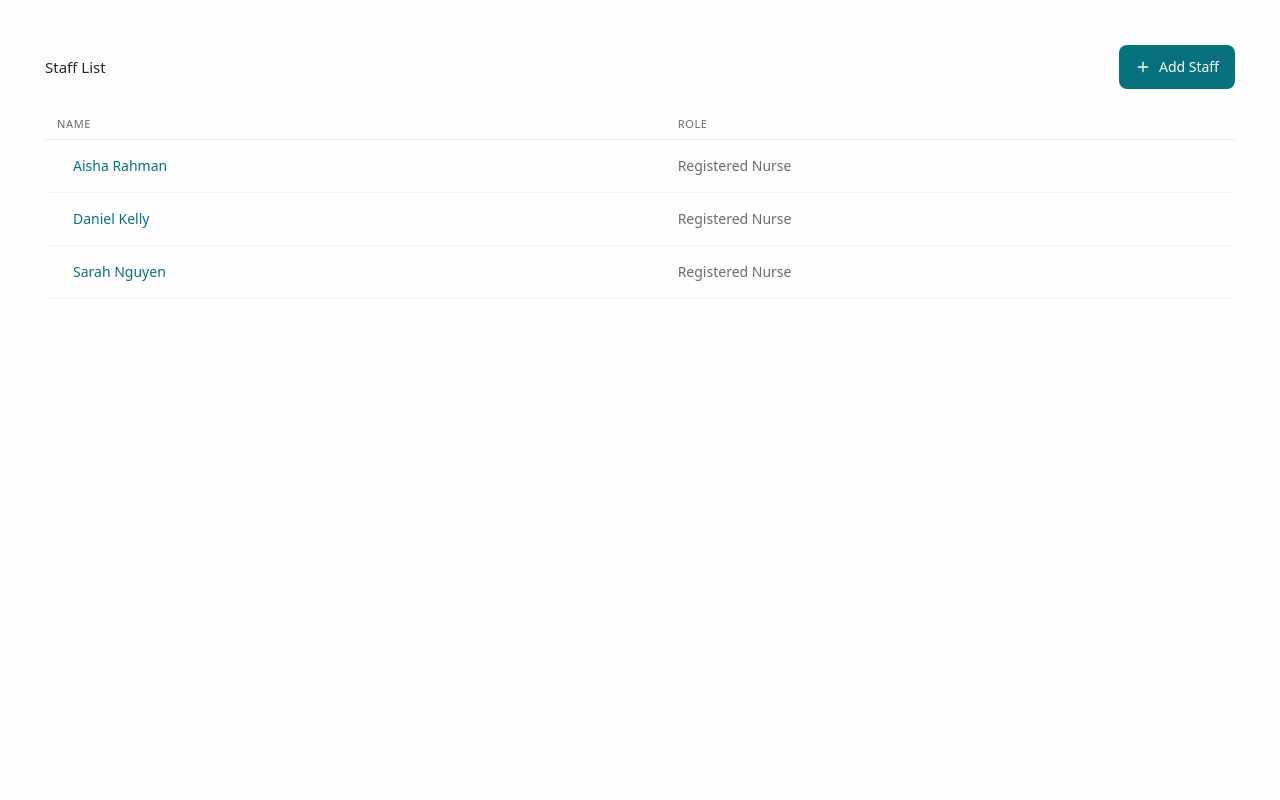
Test: [ADM-08][AC-04] the carer's Clients list › [ADM-08][AC-04] has no Clients list while adding a new staff member
Click the button with aria-label "Edit Aisha Rahman": (120, 166) [57,144,183,188]
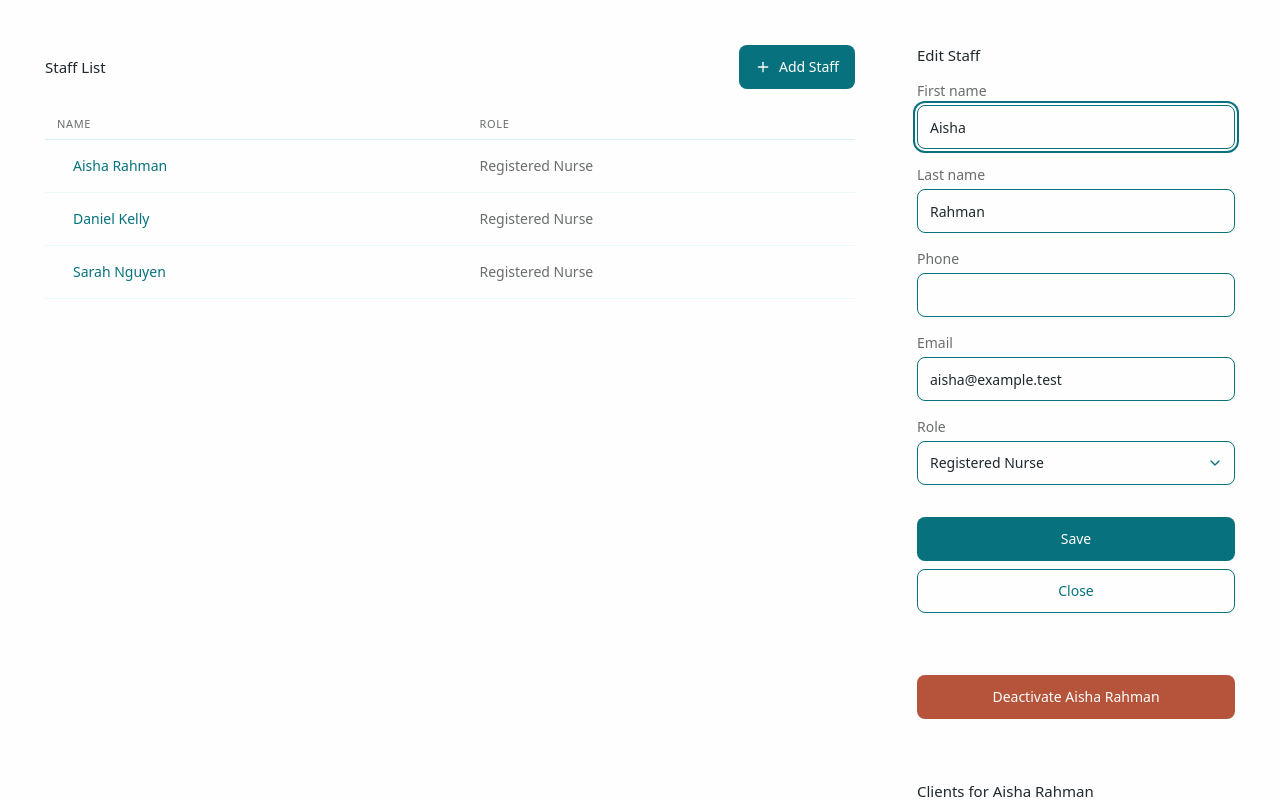
Click the button "Add Staff": (797, 67) [739,45,855,89]
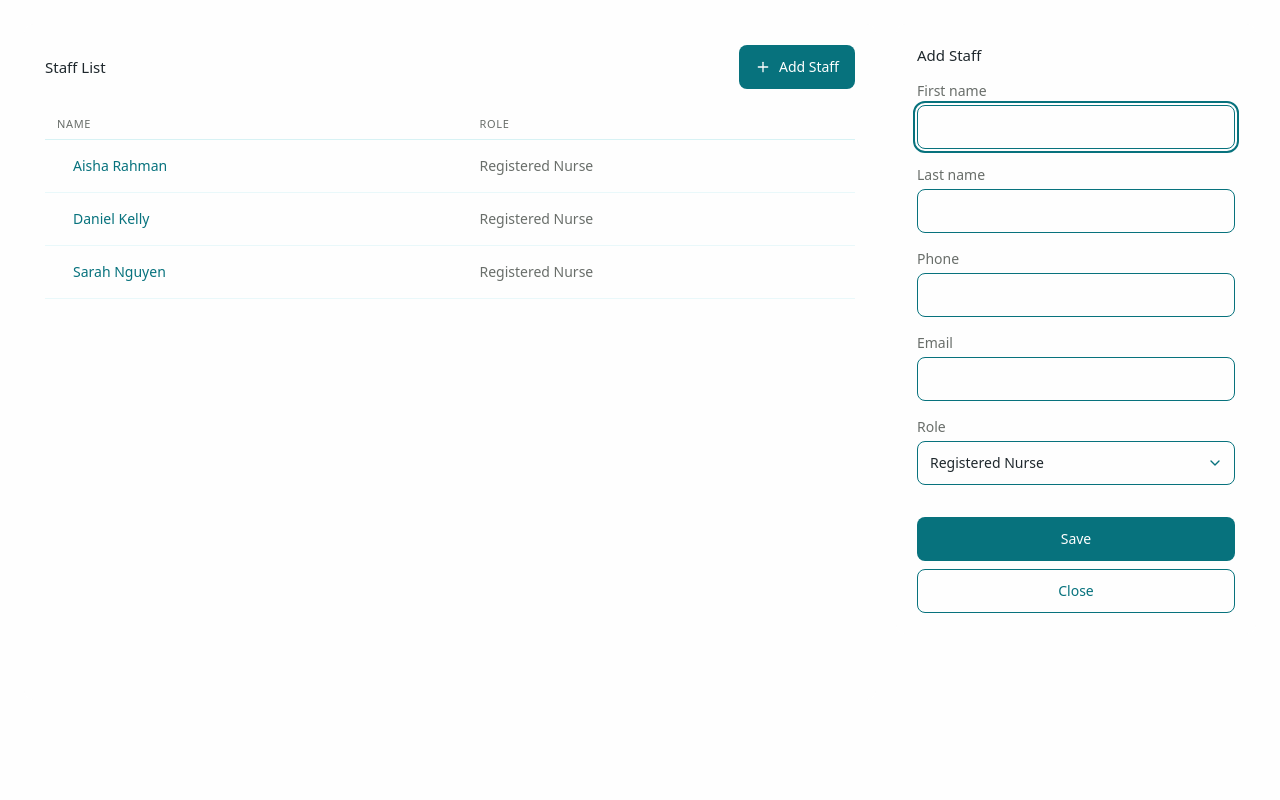
Result: the heading "Clients for " is gone
